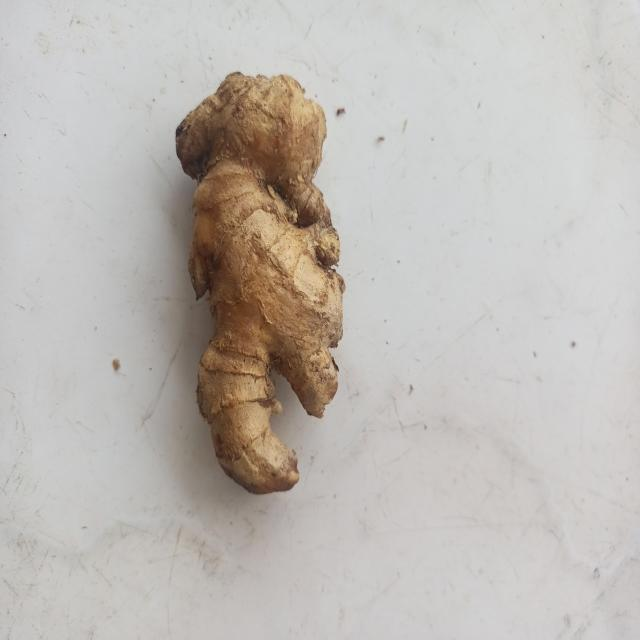ginger: (180, 68, 336, 487)
